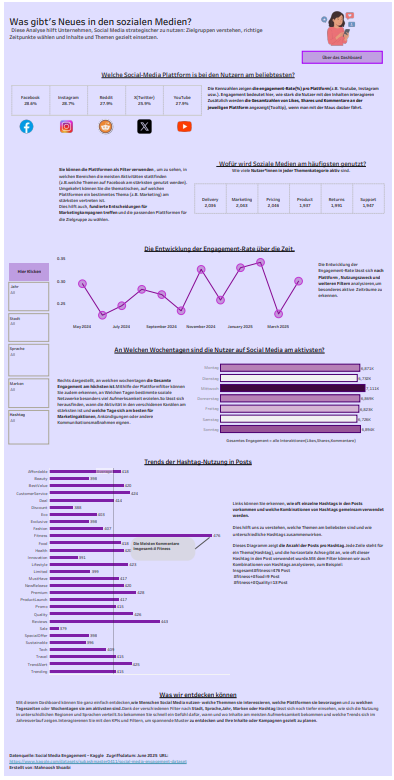

The dashboard page shown, as its layout file describes it:
{"tool":"tableau","page":{"name":"Main Dashboard","canvas":[1020,1800],"ordinal":0},"visuals":[{"type":"title","box":[8,8,1004,72]},{"type":"text","box":[8,80,1004,32]},{"type":"image","param":"Image/Like.jpeg","box":[8,112,328.4,44.8]},{"type":"image","param":"Image/comment1.jpeg","box":[336.4,112,321.5,44.8]},{"type":"image","param":"Image/Share.jpeg","box":[657.8,112,354.2,44.8]},{"type":"worksheet","title":"Like","mark":"Automatic","box":[8,156.8,328.7,34.4]},{"type":"worksheet","title":"Comment","mark":"Automatic","box":[336.7,156.8,321.3,34.4]},{"type":"worksheet","title":"Share","mark":"Automatic","box":[658,156.8,354,34.4]},{"type":"worksheet","title":"Platform","mark":"Bar","rows":["engagement_rate"],"cols":["platform"],"box":[8,191.2,1004,137.4]},{"type":"image","param":"Image/Instagram.png","box":[8,328.7,205.4,39.1]},{"type":"image","param":"Image/Facebook.png","box":[213.4,328.7,196.6,39.1]},{"type":"image","param":"Image/youtube.png","box":[410,328.7,197.1,39.1]},{"type":"image","param":"Image/Reddit.png","box":[607.1,328.7,206.4,39.1]},{"type":"image","param":"Image/X2.jpeg","box":[813.5,328.7,198.5,39.1]},{"type":"text","box":[8,367.8,1004,91.5]},{"type":"worksheet","title":"KPI-Using Social Media","mark":"Automatic","cols":["topic_category"],"box":[8,459.3,1004,117.7]},{"type":"worksheet","title":"weekday","mark":"Automatic","rows":["Calculation_186617955085561867"],"cols":["day_of_week"],"box":[8,577,943.1,166.5]},{"type":"filter","title":"weekday","param":"[federated.00w22cp04i209j12sh5eh1aul82e].[yr:timestamp:ok]","box":[951.1,577,60.9,166.5]},{"type":"text","box":[8,743.5,864,90.9]},{"type":"filter","title":"Engagement-Rate (2)","param":"[federated.00w22cp04i209j12sh5eh1aul82e].[none:brand_name:nk]","box":[872,743.5,140,90.9]},{"type":"worksheet","title":"Engagement-Rate (2)","mark":"Area","rows":["engagement_rate"],"cols":["timestamp"],"box":[8,834.4,1004,203.8]},{"type":"text","box":[8,1038.2,1004,37]},{"type":"worksheet","title":"Map","mark":"Automatic","box":[8,1075.2,511,191.9]},{"type":"worksheet","title":"Language","mark":"Automatic","box":[519,1075.2,493,191.9]},{"type":"text","box":[8,1267.1,828.6,66.2]},{"type":"filter","title":"Hashtags","param":"[federated.00w22cp04i209j12sh5eh1aul82e].[none:hashtags - Split 2:nk]","box":[836.6,1267.1,175.4,66.2]},{"type":"worksheet","title":"Hashtags","mark":"Automatic","rows":["text_content"],"cols":["hashtags - Split 1"],"box":[8,1333.3,1004,237]},{"type":"worksheet","title":"sentimental-share","mark":"Circle","rows":["shares_count"],"cols":["sentiment_label"],"box":[8,1570.3,1004,136.3]},{"type":"text","box":[8,1706.6,1004,30.7]},{"type":"text","box":[8,1737.3,1004,54.7]}]}

Visuals, with their boxes on the page's 1020x1800 design canvas (x1, y1, x2, y2). These are canvas units, not pixel positions in the 394x780 screenshot, which may show the page scaled, cropped or inside an application window:
title: bbox(8, 8, 1012, 80)
text: bbox(8, 80, 1012, 112)
image: bbox(8, 112, 336, 157)
image: bbox(336, 112, 658, 157)
image: bbox(658, 112, 1012, 157)
"Like" worksheet: bbox(8, 157, 337, 191)
"Comment" worksheet: bbox(337, 157, 658, 191)
"Share" worksheet: bbox(658, 157, 1012, 191)
"Platform" worksheet (Bar marks): bbox(8, 191, 1012, 329)
image: bbox(8, 329, 213, 368)
image: bbox(213, 329, 410, 368)
image: bbox(410, 329, 607, 368)
image: bbox(607, 329, 814, 368)
image: bbox(814, 329, 1012, 368)
text: bbox(8, 368, 1012, 459)
"KPI-Using Social Media" worksheet: bbox(8, 459, 1012, 577)
"weekday" worksheet: bbox(8, 577, 951, 744)
"weekday" filter: bbox(951, 577, 1012, 744)
text: bbox(8, 744, 872, 834)
"Engagement-Rate (2)" filter: bbox(872, 744, 1012, 834)
"Engagement-Rate (2)" worksheet (Area marks): bbox(8, 834, 1012, 1038)
text: bbox(8, 1038, 1012, 1075)
"Map" worksheet: bbox(8, 1075, 519, 1267)
"Language" worksheet: bbox(519, 1075, 1012, 1267)
text: bbox(8, 1267, 837, 1333)
"Hashtags" filter: bbox(837, 1267, 1012, 1333)
"Hashtags" worksheet: bbox(8, 1333, 1012, 1570)
"sentimental-share" worksheet (Circle marks): bbox(8, 1570, 1012, 1707)
text: bbox(8, 1707, 1012, 1737)
text: bbox(8, 1737, 1012, 1792)
